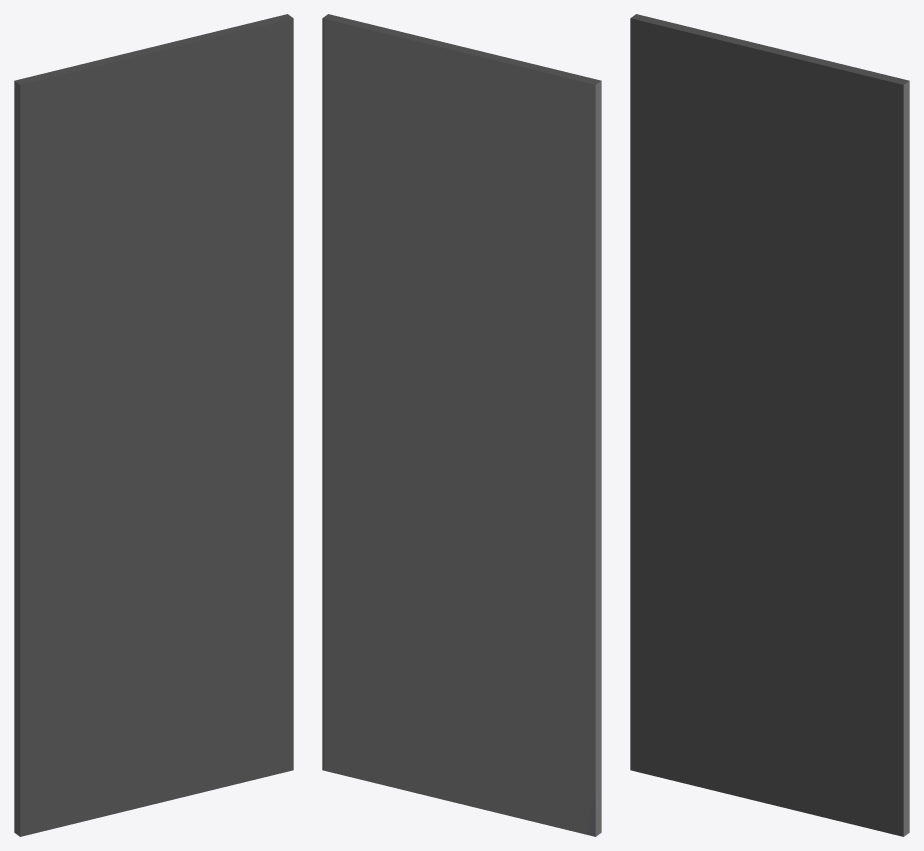
File: SW_ENV_Elevator_DoorOuter.fbx
3 renders of one model, left to right at view 1: azimuth 30°, elevation 25°; view 2: azimuth 150°, elevation 25°; view 3: azimuth 330°, elevation 25°, orthographic.
Visible parts, largest first — view 1: SW_ENV_Elevator_DoorOuter; view 2: SW_ENV_Elevator_DoorOuter; view 3: SW_ENV_Elevator_DoorOuter.
Part boxes in pixels (<box>): SW_ENV_Elevator_DoorOuter: <box>14,14,293,836</box>; SW_ENV_Elevator_DoorOuter: <box>322,14,601,836</box>; SW_ENV_Elevator_DoorOuter: <box>630,14,909,836</box>.
Size of the model in its own units: 95 by 250 by 3.5.
